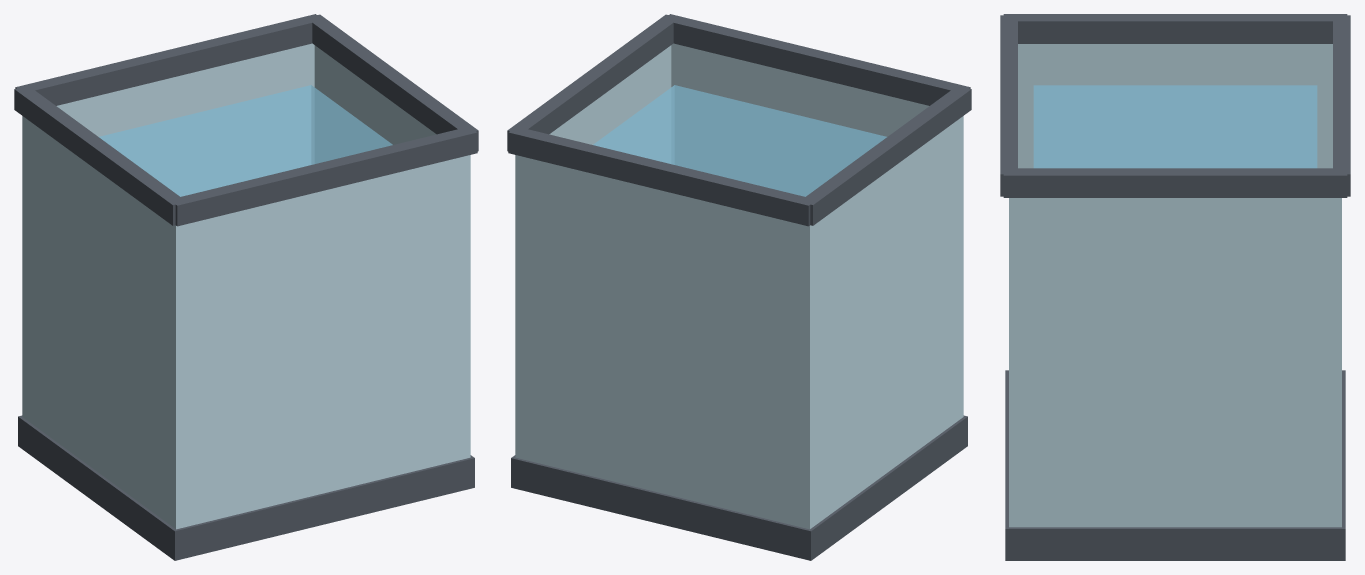
Rendered from FishTank.glb.
3 views of the same model, side by side, from view 1: azimuth 30°, elevation 25°; view 2: azimuth 150°, elevation 25°; view 3: azimuth 270°, elevation 25° (orthographic). The views are drawn at different scales.
Visible parts, largest first — view 1: FishTank, Water; view 2: FishTank, Water; view 3: FishTank, Water.
Boxes of the visible parts, x1=… form: FishTank: x1=14, y1=14, x2=478, y2=560; Water: x1=99, y1=85, x2=392, y2=196; FishTank: x1=507, y1=14, x2=971, y2=560; Water: x1=593, y1=85, x2=886, y2=196; FishTank: x1=1000, y1=14, x2=1350, y2=560; Water: x1=1033, y1=85, x2=1317, y2=168.
Size of the model in its own units: 1.08 by 1.21 by 0.99.
